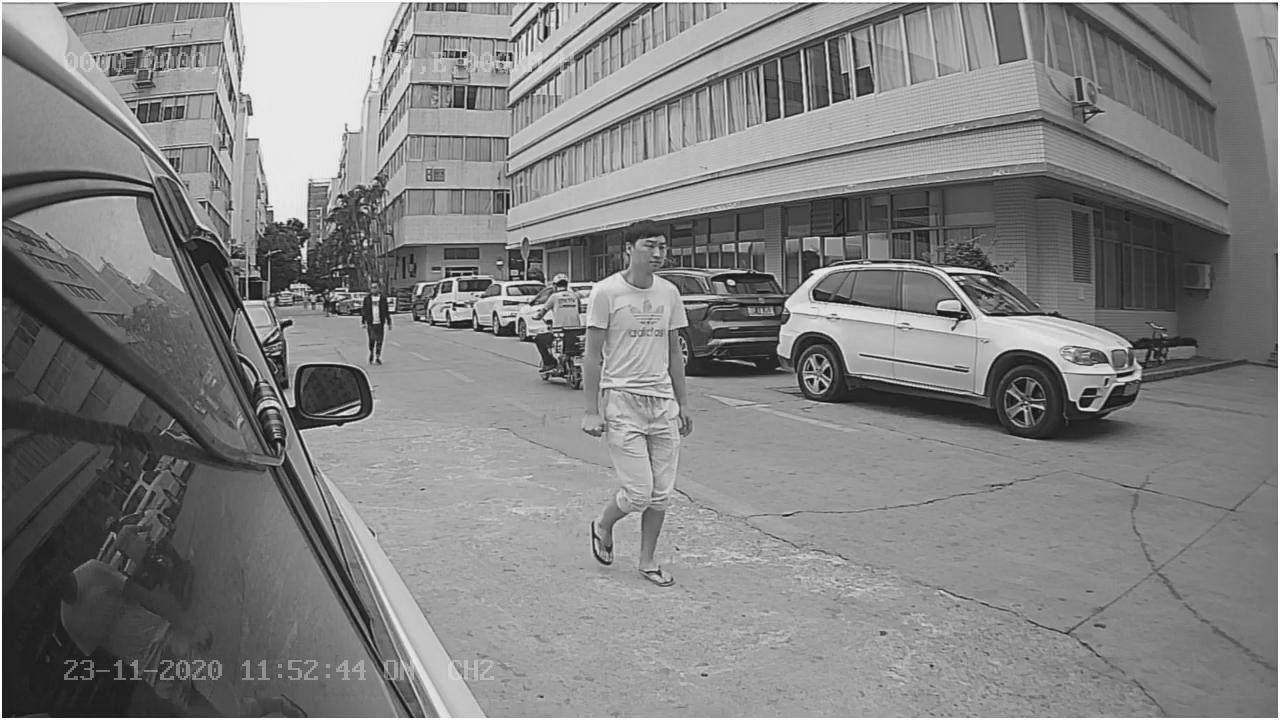person: (583, 220, 689, 573)
